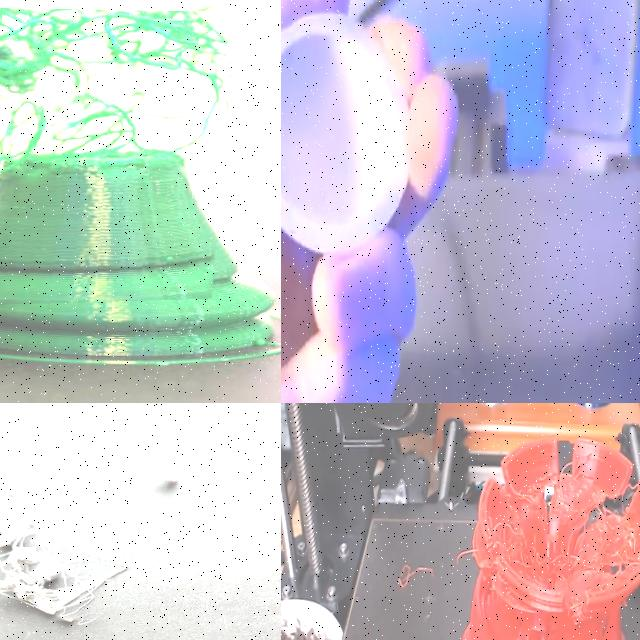spaghetti: (0, 403, 281, 634), (0, 7, 232, 180), (471, 440, 640, 600), (397, 563, 436, 606)
